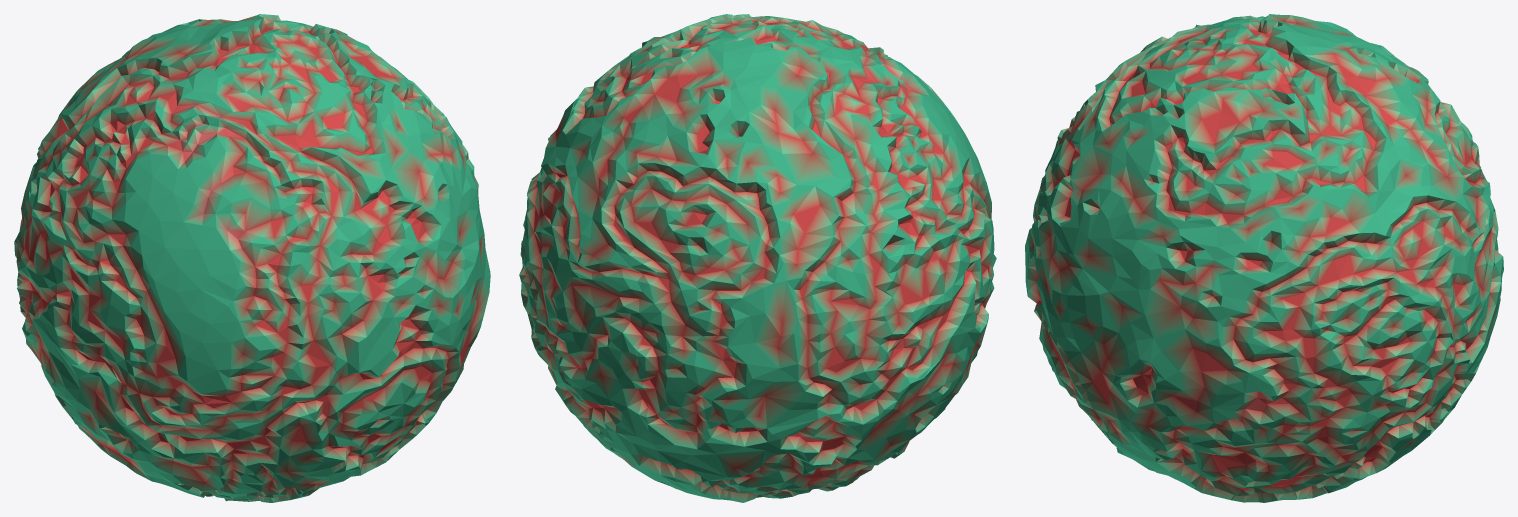
The picture shows the model from 3 angles, left to right: view 1: azimuth 30°, elevation 25°; view 2: azimuth 150°, elevation 25°; view 3: azimuth 270°, elevation 25°; orthographic projection.
Visible parts, largest first — view 1: 13, 12; view 2: 13, 12; view 3: 13, 12.
Part boxes in pixels (box(x1,y1,x2,y2)): 13: box(14, 14, 490, 502); 12: box(14, 14, 483, 501); 13: box(519, 14, 996, 502); 12: box(519, 14, 992, 501); 13: box(1025, 14, 1503, 502); 12: box(1028, 15, 1500, 502).
Bounding box in the file's own units: 4928 × 5055 × 4924.
